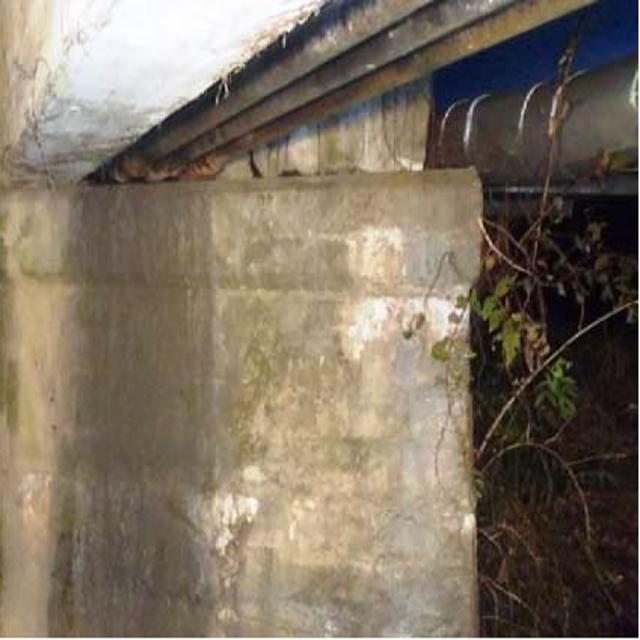freelime: (337, 218, 454, 368), (184, 470, 303, 571)
